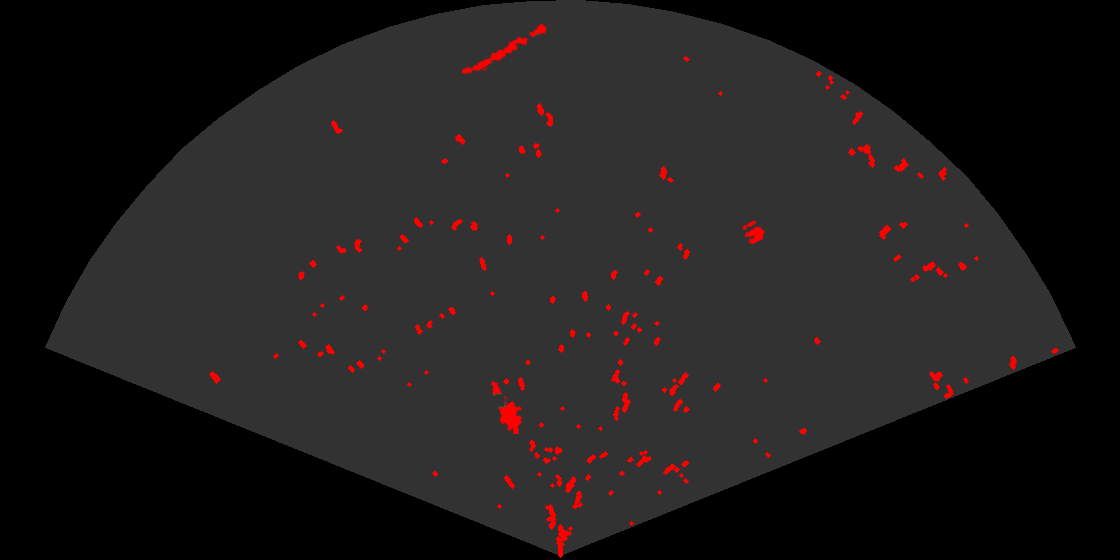ball: (740, 219, 767, 246)
chain: (460, 18, 557, 76)
frogman: (490, 379, 524, 434)
